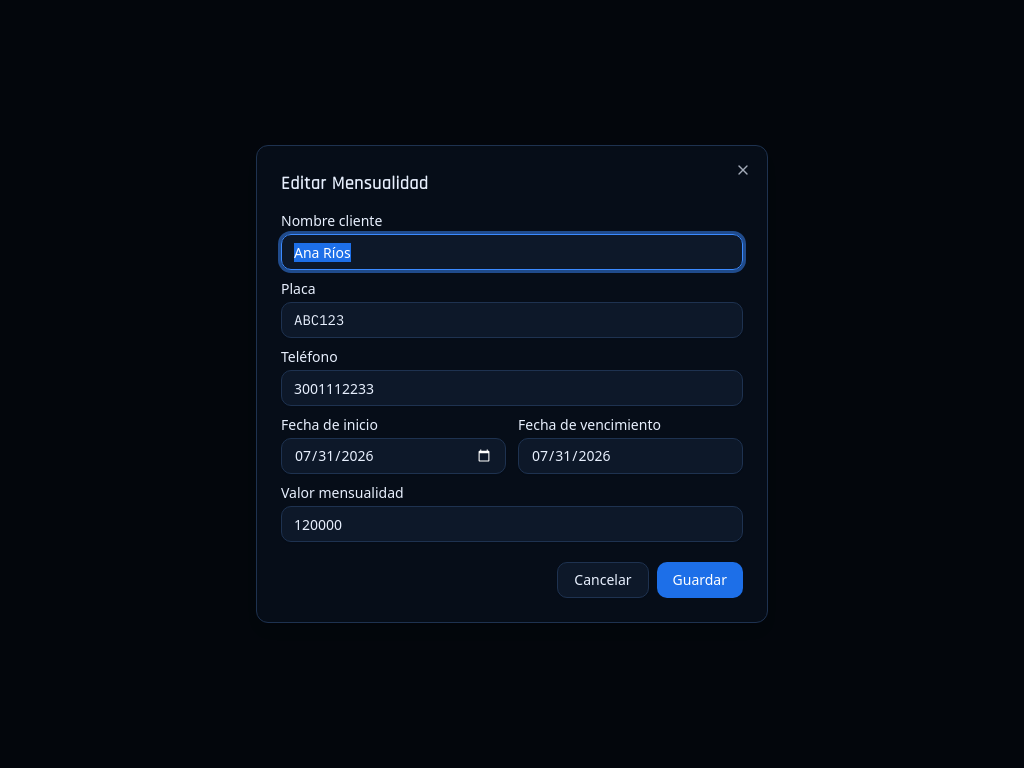
no acepta un vencimiento que no sea posterior al inicio
Click the button "Guardar". click: (700, 580)
box: [656,562,743,598]
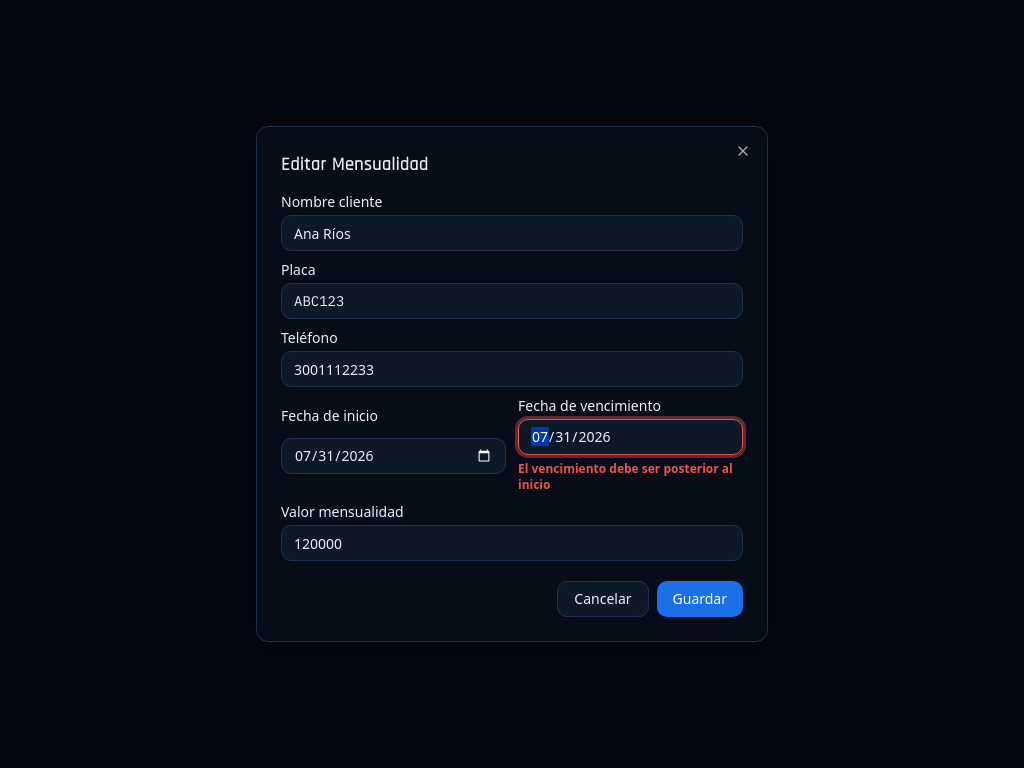
Expected: the text "El vencimiento debe ser posterior al inicio" is shown, [518,461,743,493]
